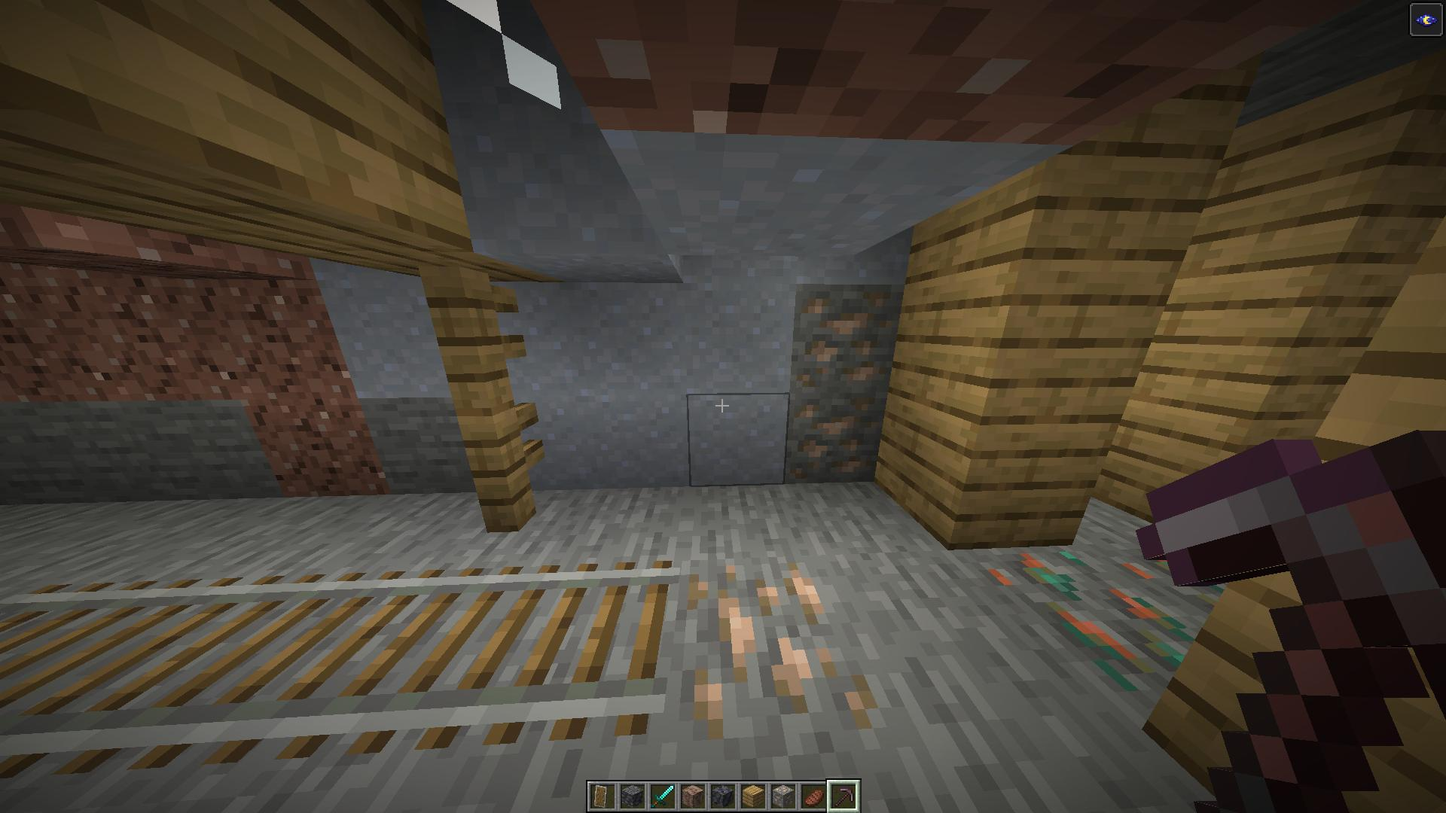iron ore: (677, 564, 880, 749), (790, 286, 904, 393), (782, 388, 891, 484)
